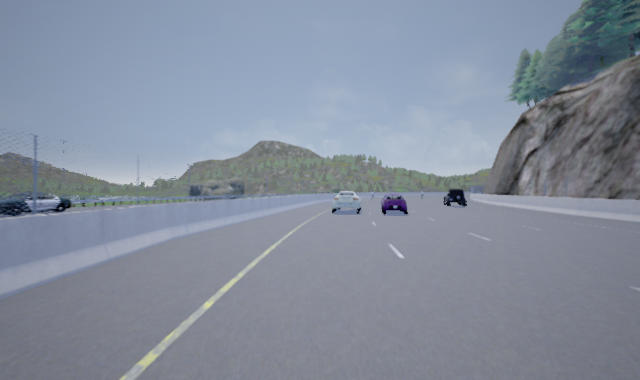vehicle: (1, 190, 71, 217), (330, 190, 362, 213), (379, 193, 408, 215), (444, 188, 466, 207)
